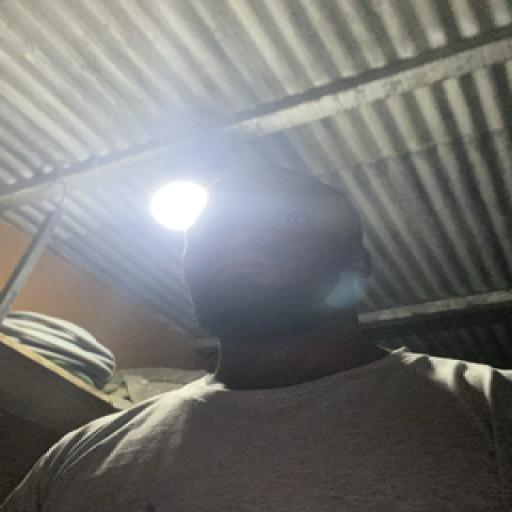JEANLUC: (174, 161, 374, 355)
